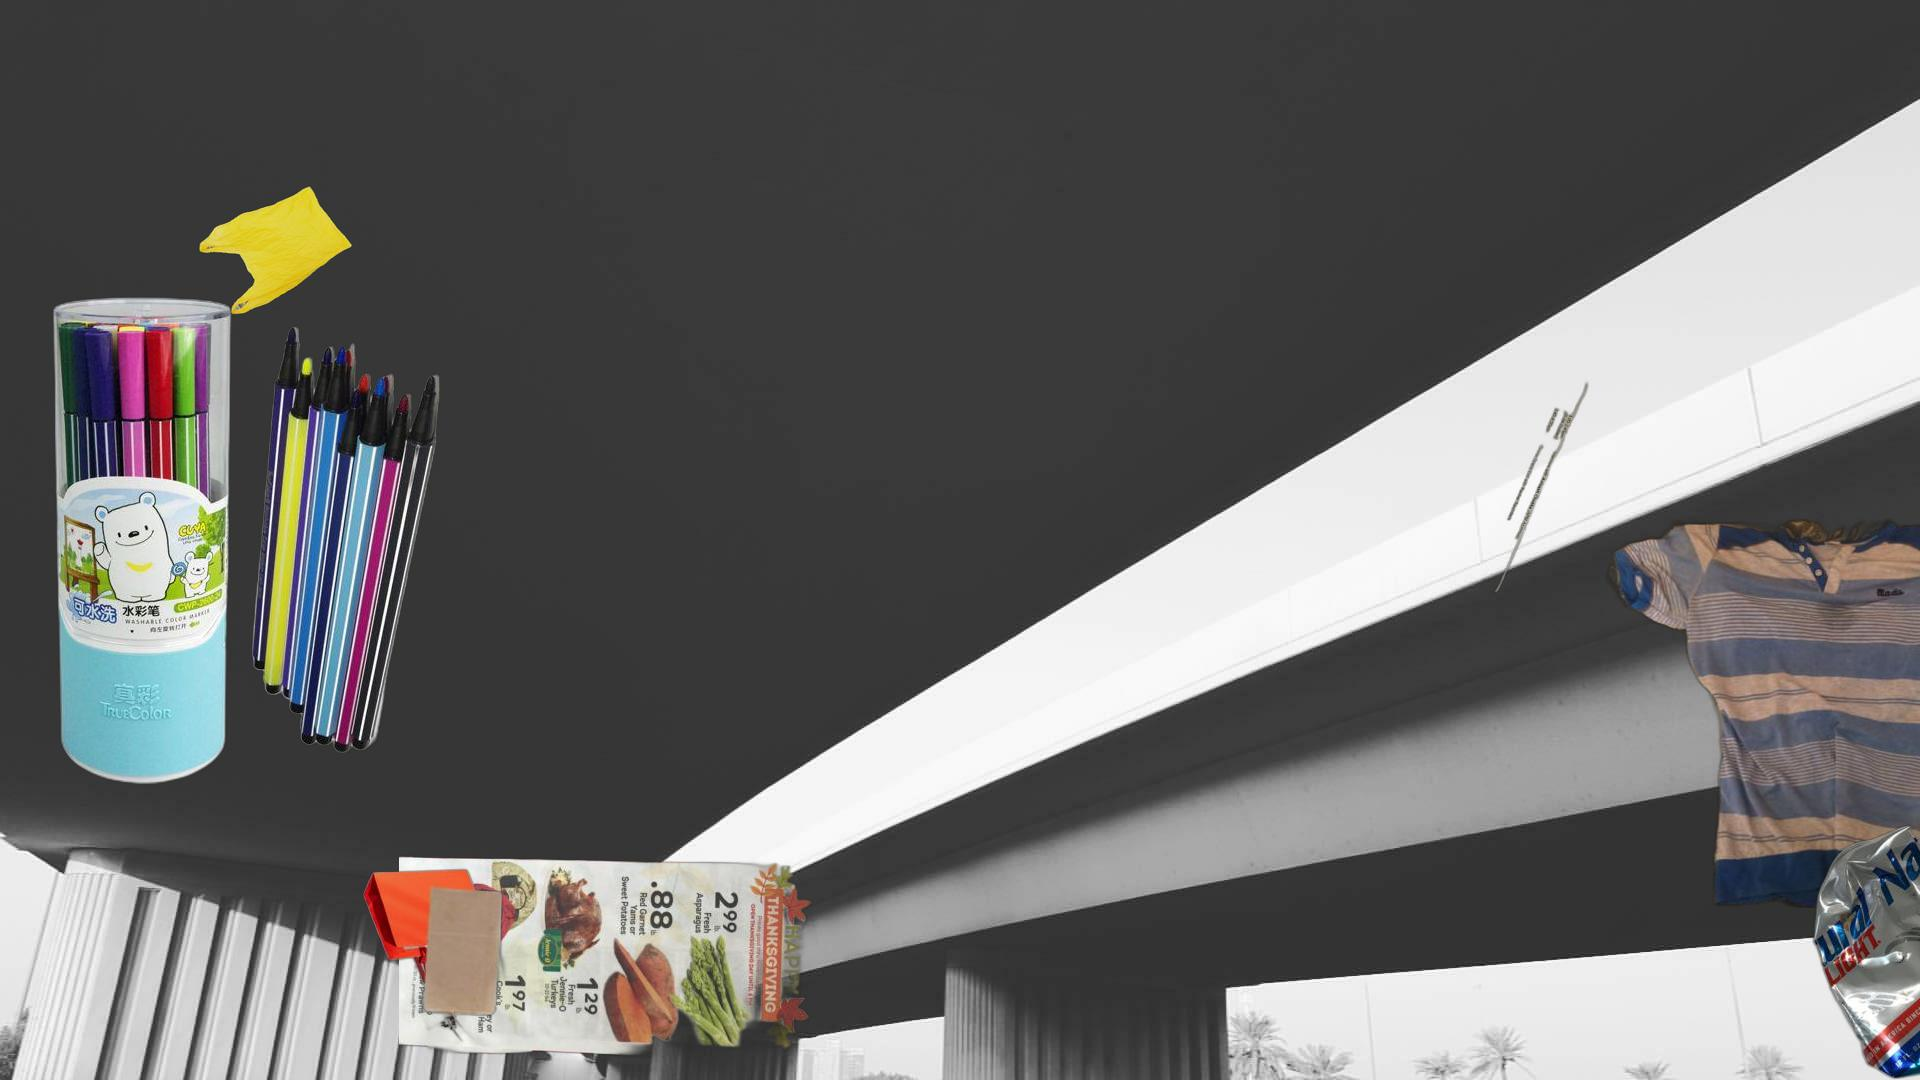clothes: (1604, 508, 1920, 909)
metal-cans: (1638, 426, 1920, 934), (1809, 823, 1920, 1080)
paper: (400, 852, 815, 1080), (1489, 378, 1592, 597)
paper-bag: (363, 866, 508, 1044)
penholder: (47, 293, 444, 789)
plastic-bag: (196, 183, 353, 318)
